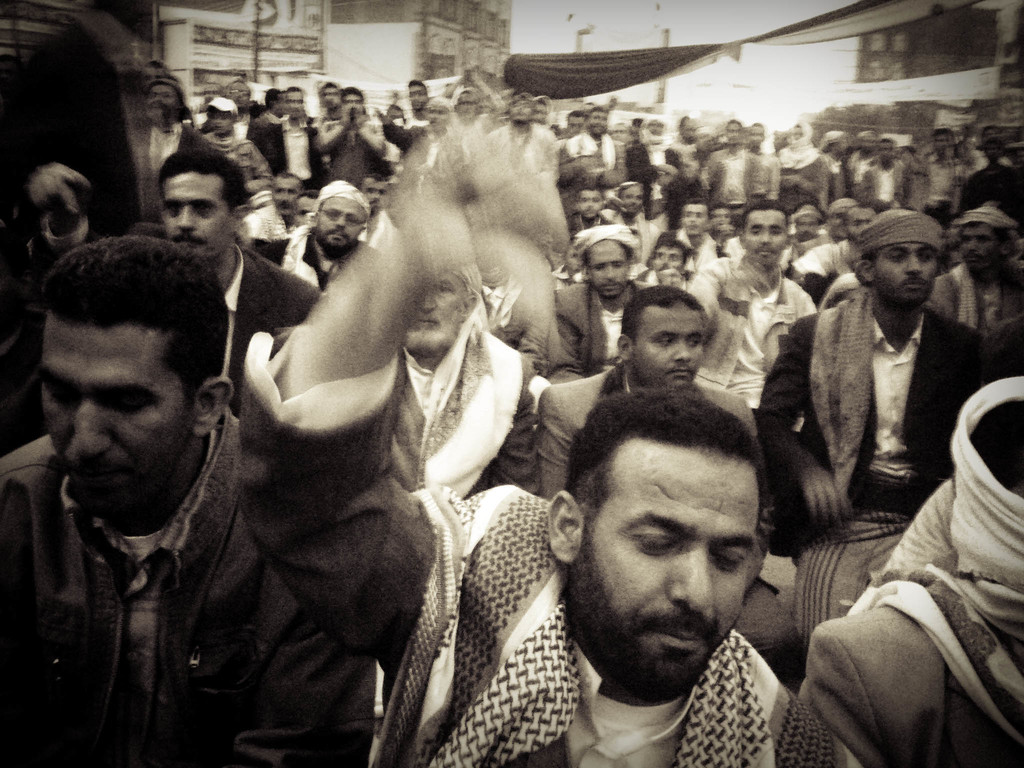Human_hand: (384, 118, 557, 284), (29, 159, 89, 221), (803, 463, 855, 528), (659, 269, 687, 290), (356, 105, 369, 131), (340, 102, 351, 127)
